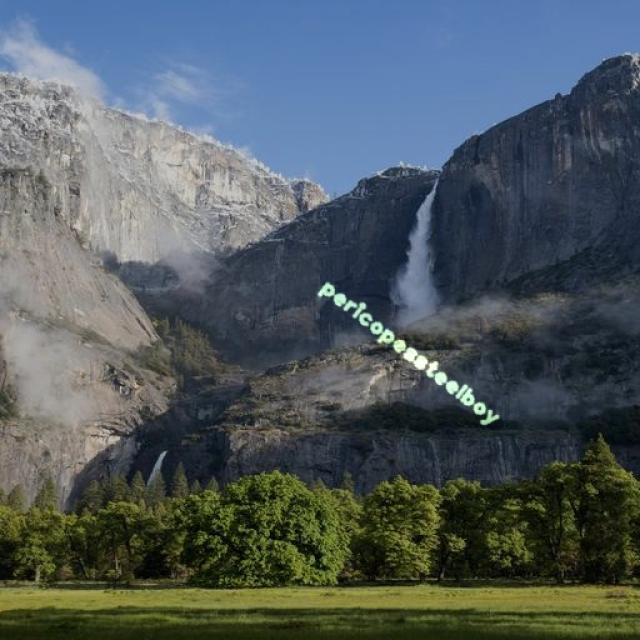watermark: (314, 275, 508, 431)
